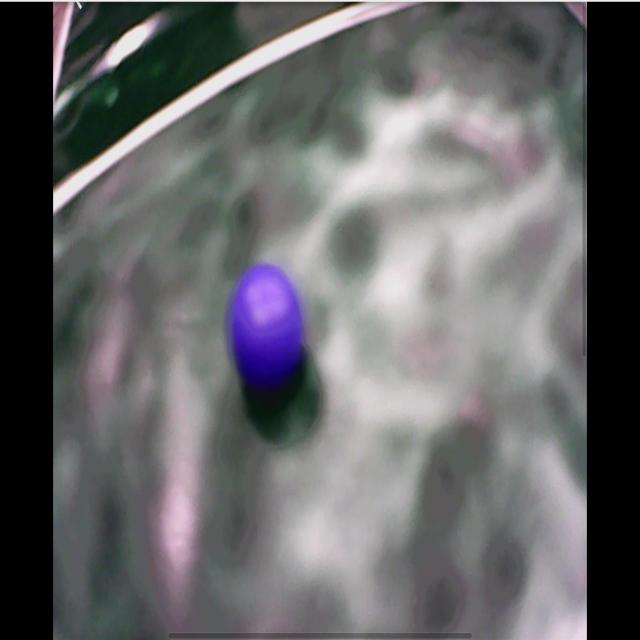ball: (231, 266, 300, 381)
